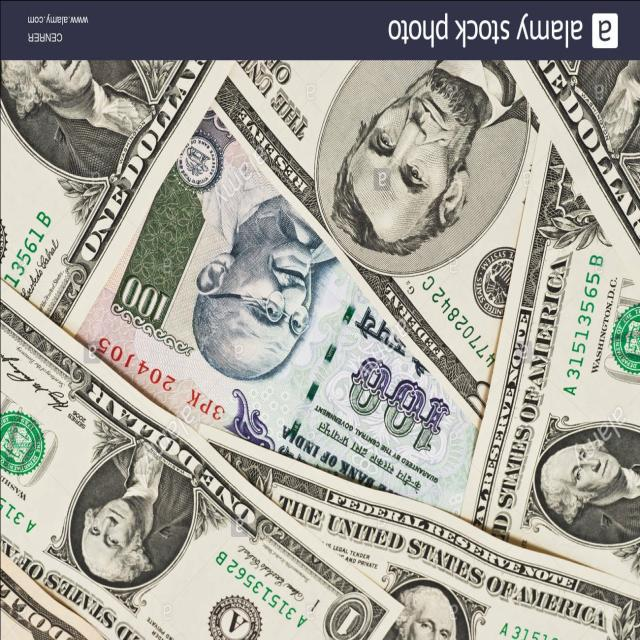100IndianRupees: (86, 92, 477, 525)
